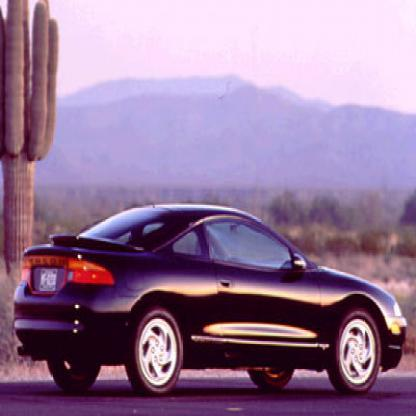Vehicle: (11, 203, 410, 402)
